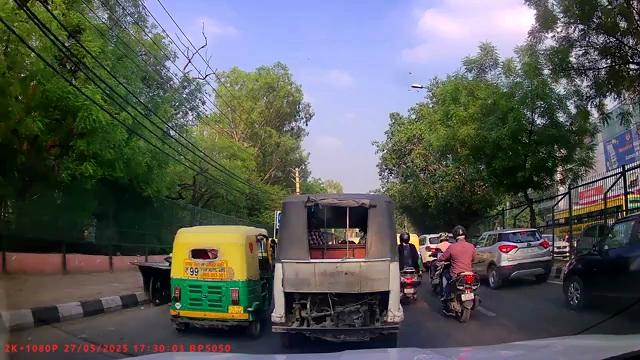motorcycle_with_helmet: (437, 224, 479, 323)
